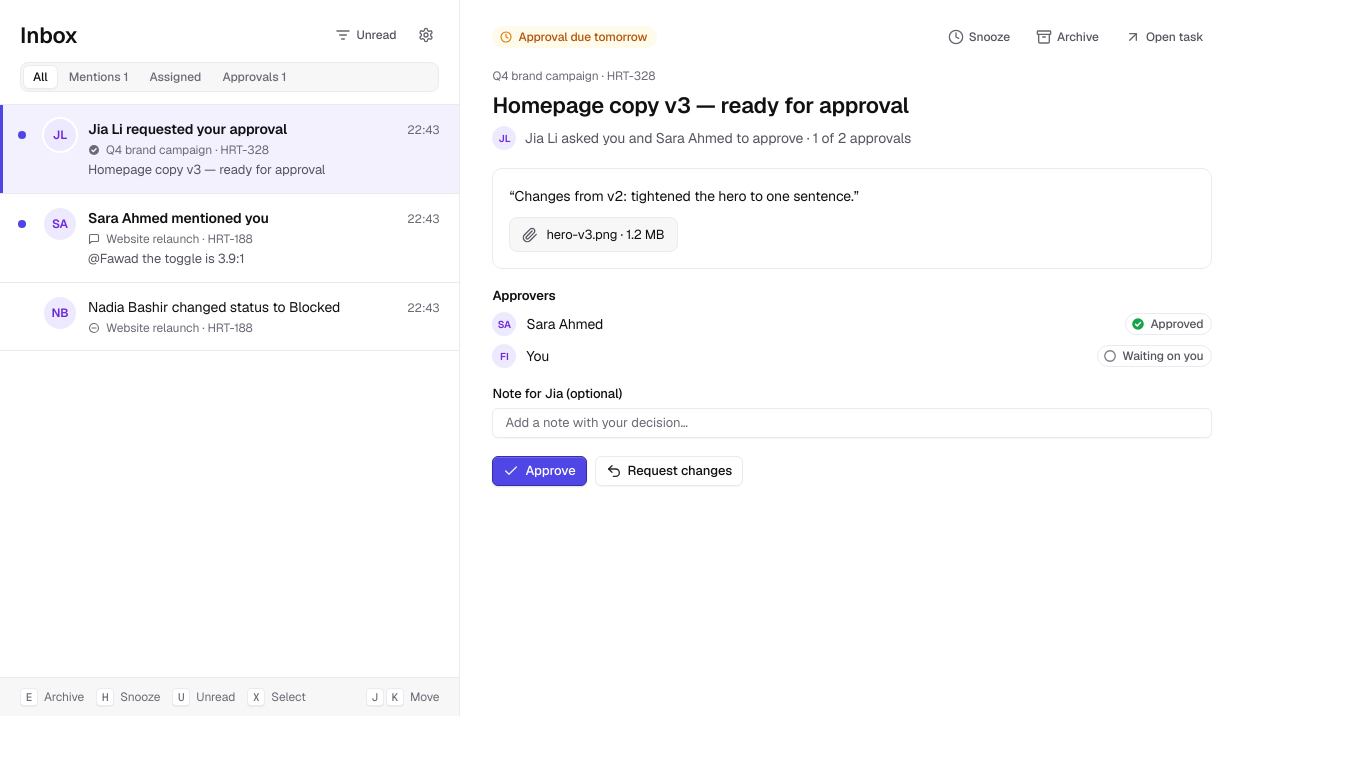
Test: InboxPage › X selects items for bulk actions
This screenshot has width=1366, height=768.
expect the text "Jia Li requested your approval" is shown: met, box [87, 119, 287, 138]
Press x
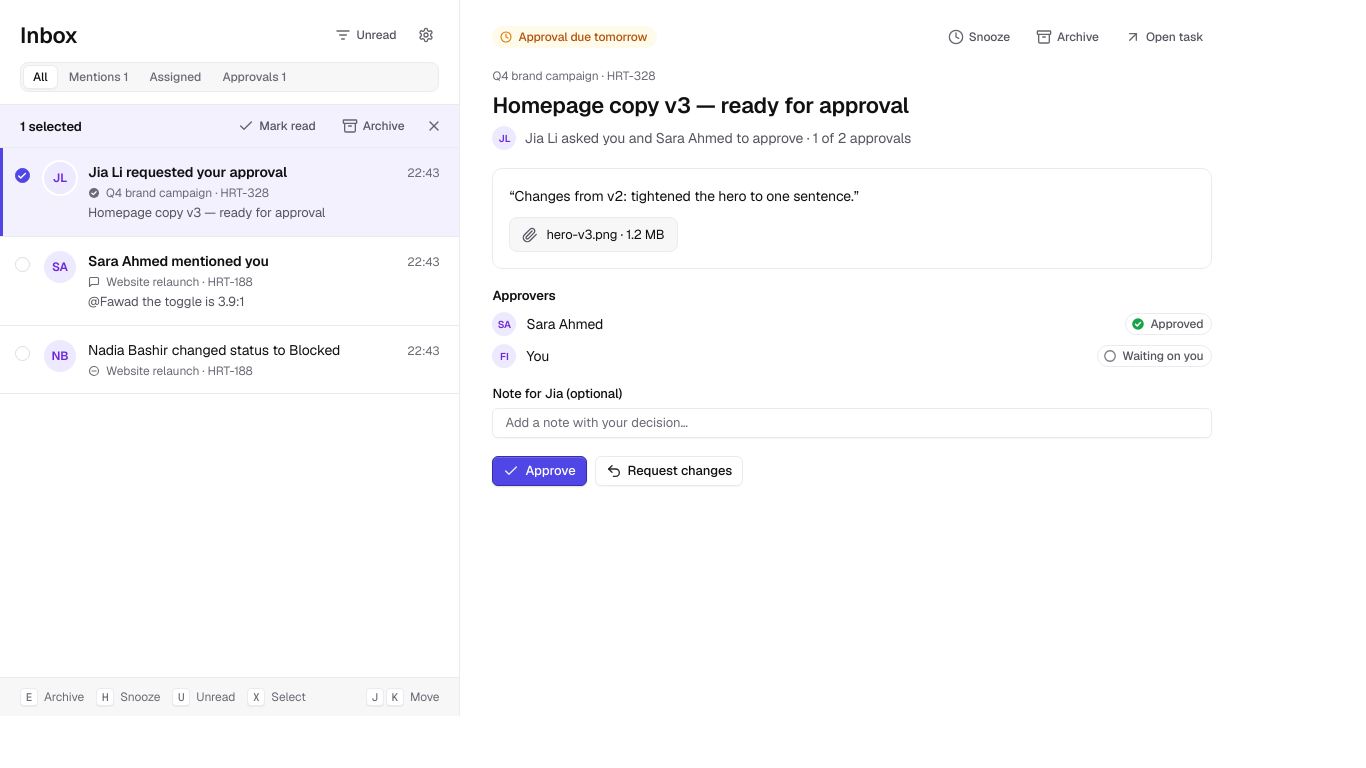
Press j
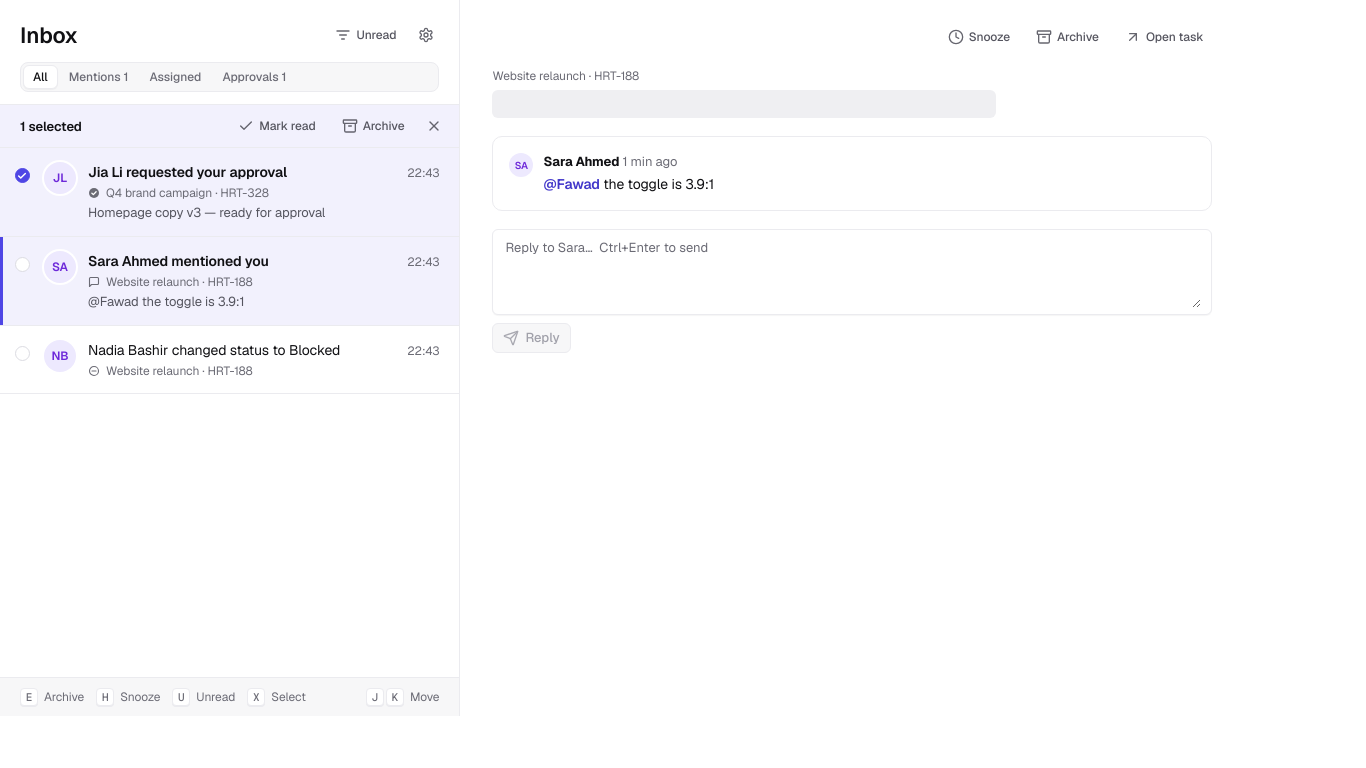
Press x
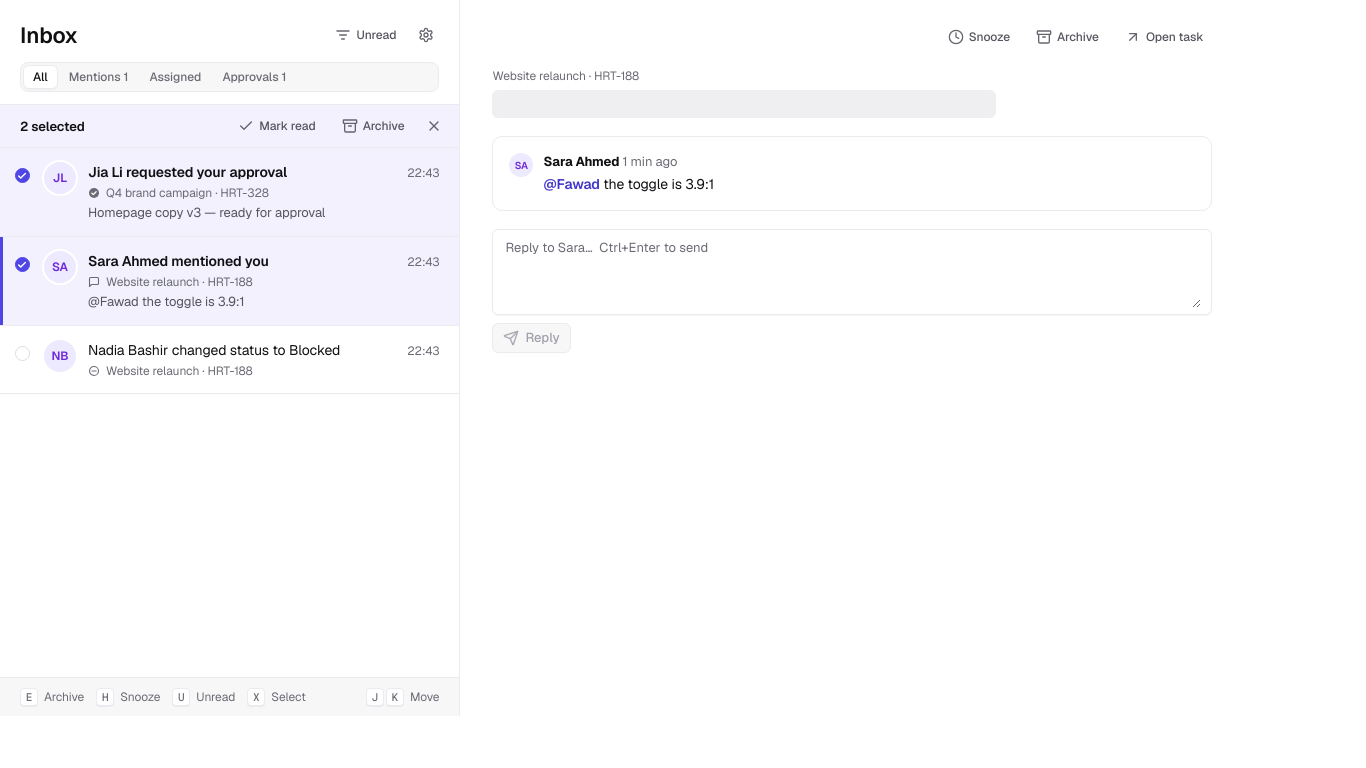
expect the text "2 selected" is shown: met, box [20, 118, 85, 134]
Click the button "Archive" in the row of "selected": (373, 126) [333, 113, 414, 139]
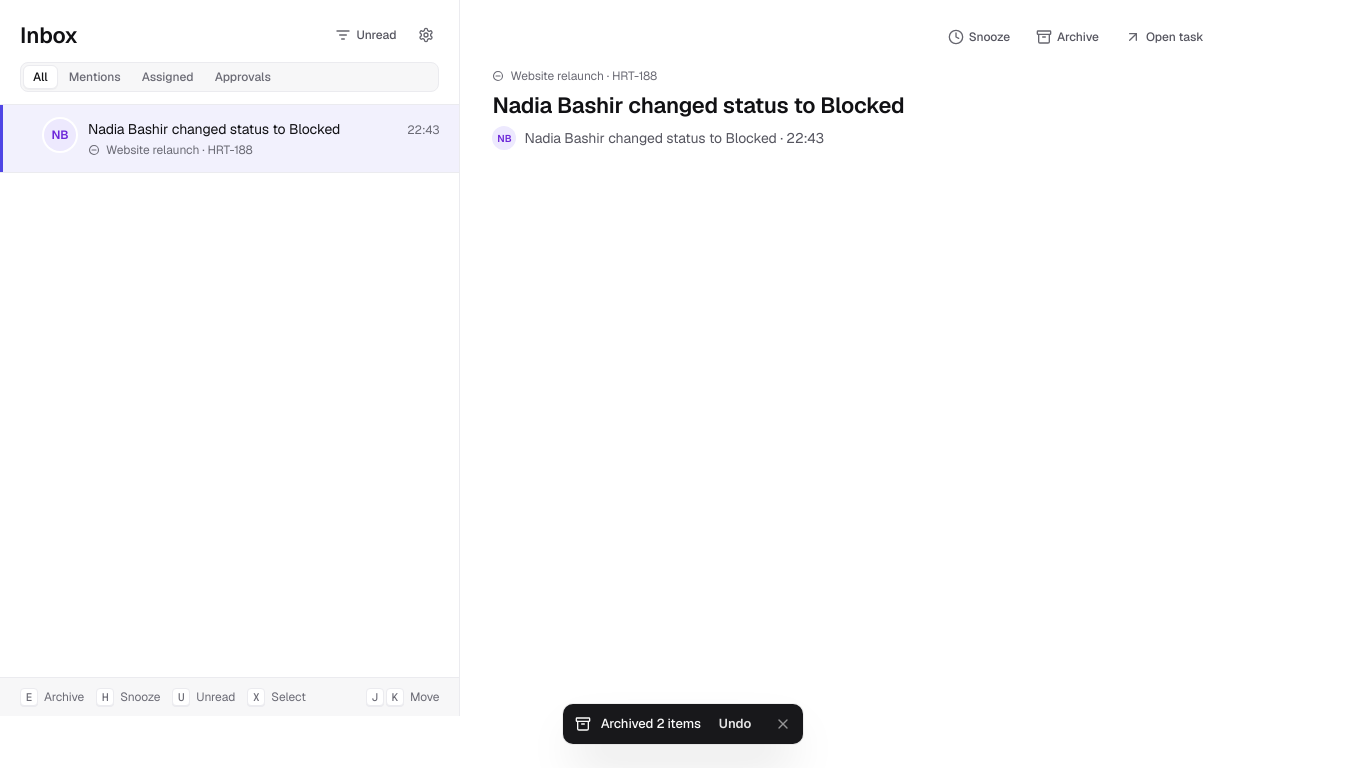
expect the text "Archived 2 items" is shown: met, box [601, 715, 701, 733]
